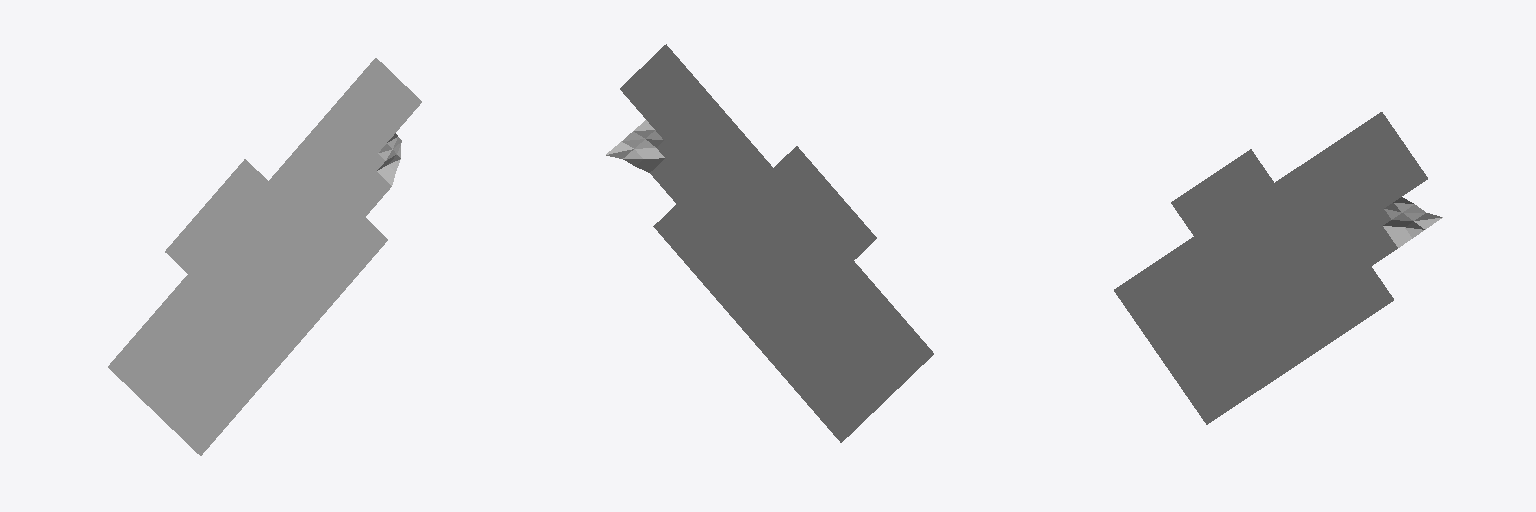
The model's file is Feralas - Stream 92.wlw.obj.
The picture shows the model from 3 angles: view 1: azimuth 30°, elevation 25°; view 2: azimuth 150°, elevation 25°; view 3: azimuth 330°, elevation 25°; orthographic projection.
Bounding box in the file's own units: 221 × 239 × 21.89.